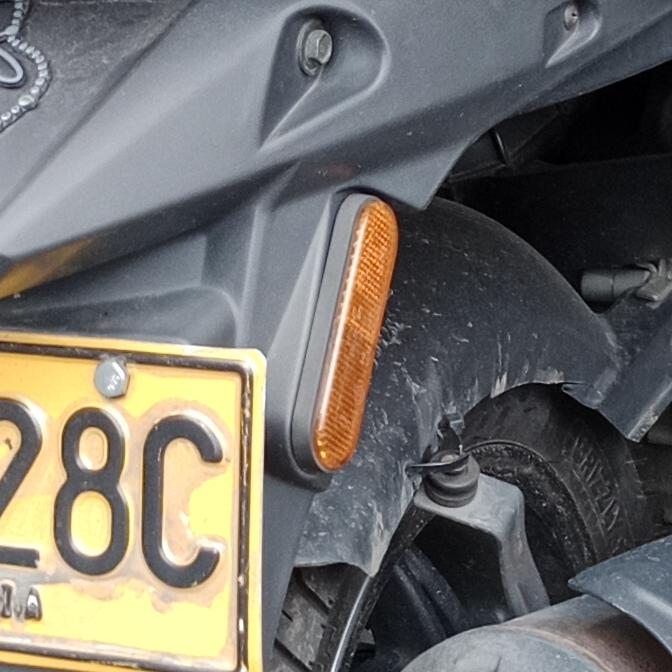plates: (0, 337, 266, 672)
